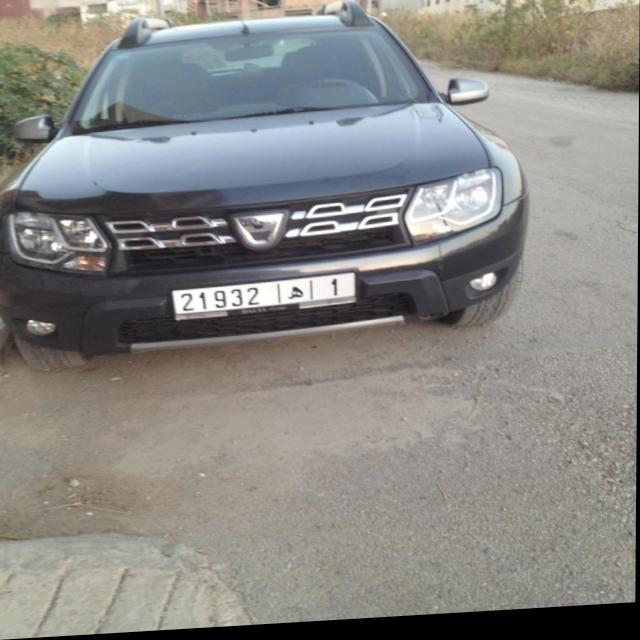License-Plate: (174, 278, 356, 322)
